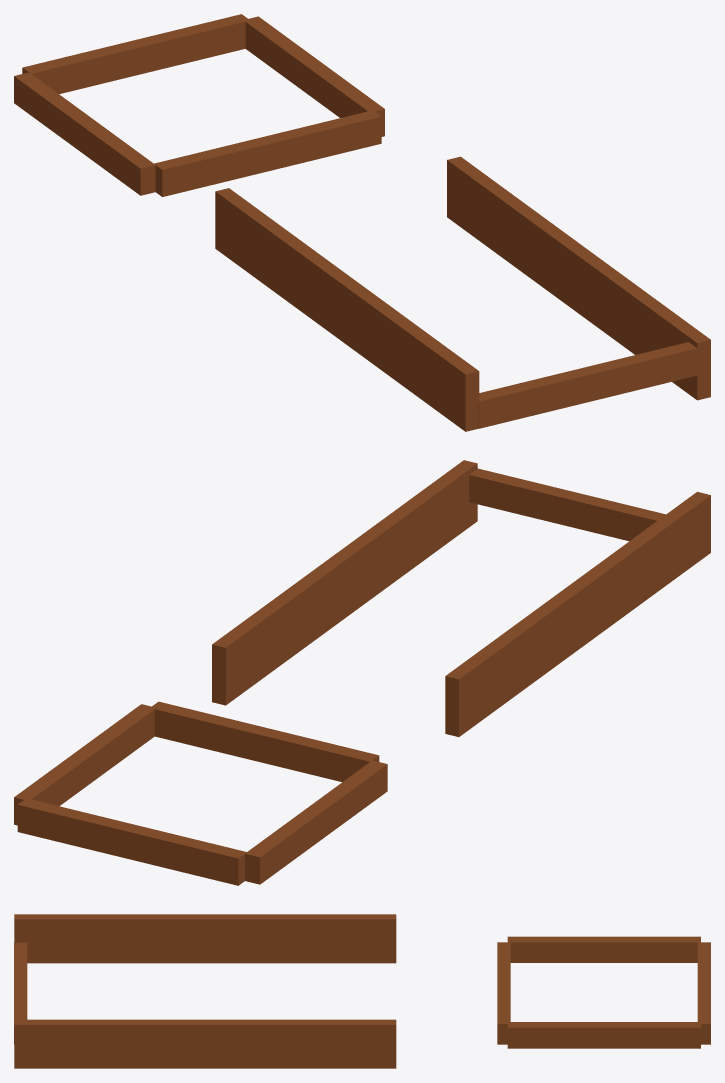
The model's file is Border.glb.
The picture shows the model from 3 angles, top to bottom: view 1: azimuth 30°, elevation 25°; view 2: azimuth 150°, elevation 25°; view 3: azimuth 270°, elevation 25°; orthographic projection. The views are drawn at different scales.
Parts seen in each view (by area): view 1: unified_border; view 2: unified_border; view 3: unified_border.
Boxes of the visible parts, box(x1,y1,x2,y2) form: unified_border: box(14, 14, 710, 431); unified_border: box(14, 460, 710, 885); unified_border: box(14, 914, 710, 1068).
Bounding box in the file's own units: 4.51 × 1.44 × 14.42.
2 materials, 2 textured.
